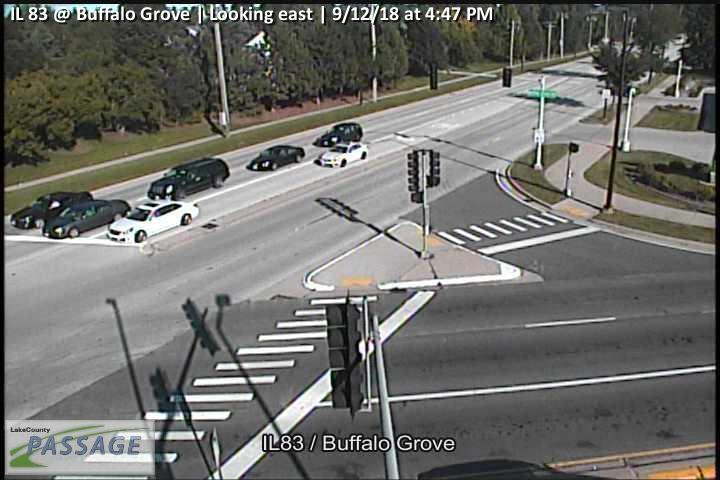SUV: (148, 157, 231, 201), (314, 123, 363, 148)
Sedan: (107, 198, 199, 244), (41, 199, 132, 239), (10, 190, 94, 231), (246, 145, 305, 172), (316, 141, 369, 167)
